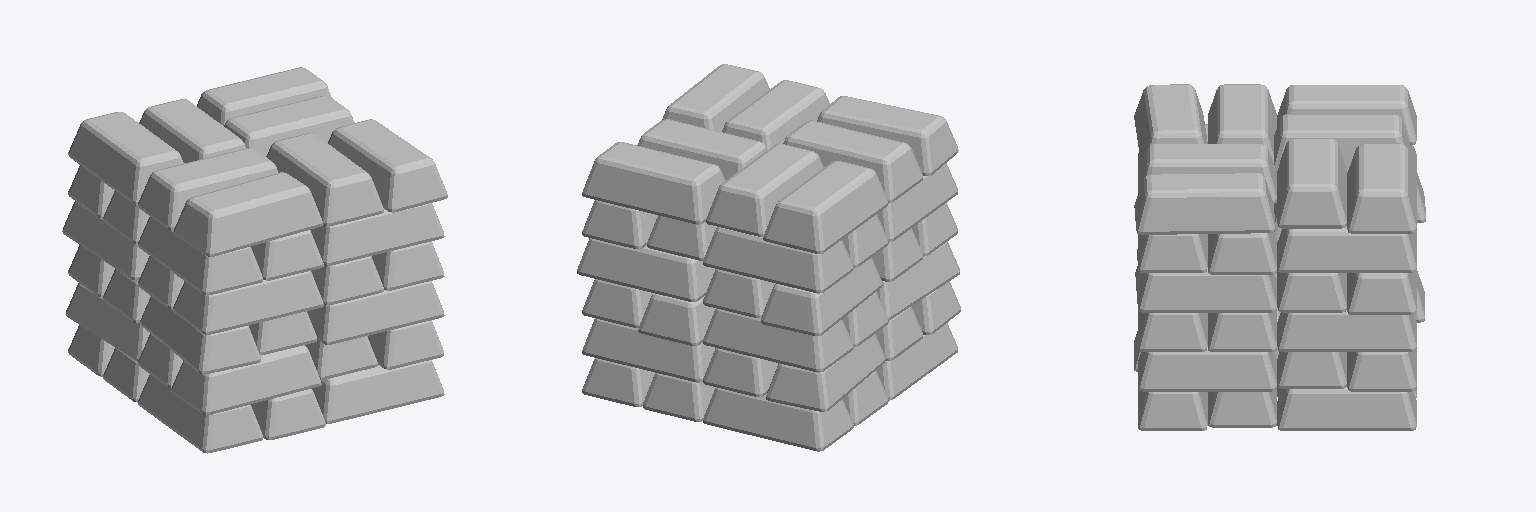
The model's file is Gold_Bars_Stack_Large.obj.
The picture shows the model from 3 angles: view 1: azimuth 30°, elevation 25°; view 2: azimuth 150°, elevation 25°; view 3: azimuth 270°, elevation 25°; orthographic projection.
Visible parts, largest first — view 1: Gold_Bars_Stack_Large; view 2: Gold_Bars_Stack_Large; view 3: Gold_Bars_Stack_Large.
Boxes of the visible parts, x1,y1,x2,y2 form: Gold_Bars_Stack_Large: [62, 67, 447, 453]; Gold_Bars_Stack_Large: [577, 64, 960, 451]; Gold_Bars_Stack_Large: [1134, 84, 1425, 430].
Size of the model in its own units: 1.66 by 1.5 by 1.68.